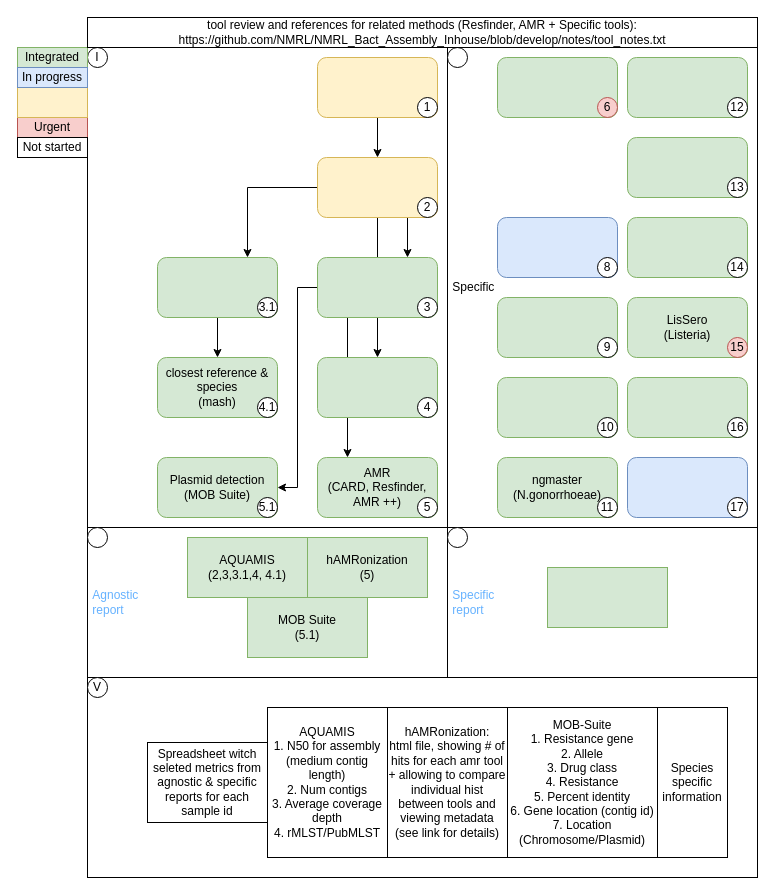
Some shapes in this 775 by 895 pixel diagram are drawn without their labels. The box of each missing label's shape, as (x1, y1, x2, y2) in pixels:
Agnostic: (86, 46, 448, 528)
AgrVATE/spaTyper/Staphopia-sccmec (S.aureus): (496, 296, 618, 358)
de novo assembly & assembly qc (shovill/quast): (316, 256, 438, 318)
Demultiplexing (bcl2fastq): (316, 56, 438, 118)
emmtyper (S.pyogenes): (496, 376, 618, 438)
hicap (H.influenzae): (626, 56, 748, 118)
host_filter & classification (Kraken2): (156, 256, 278, 318)
II: (446, 46, 468, 68)
III: (86, 526, 108, 548)
IV: (446, 526, 468, 548)
Kleborate (Klebsiella): (626, 136, 748, 198)
legsta (Legionella): (626, 216, 748, 278)
meningotype (N.meningitidis): (626, 376, 748, 438)
Module ready: (16, 86, 88, 118)
MTBSeq: (496, 216, 618, 278)
PAst (P.aeruginosa): (626, 456, 748, 518)
QC, contamination, assembly (AQUAMIS): (316, 156, 438, 218)
SeqSero/SISTR (Salmonella): (496, 56, 618, 118)
Species-based results: (546, 566, 668, 628)
Summary report: (86, 676, 758, 878)
typing (PubMLST/rMLST): (316, 356, 438, 418)
